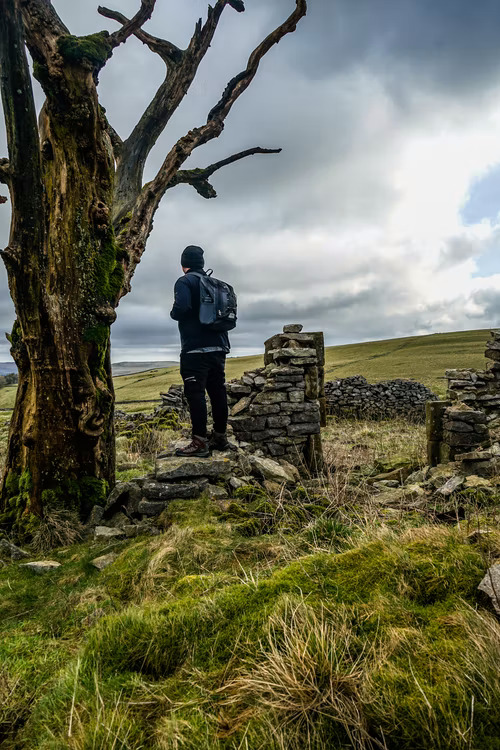person: (169, 246, 233, 452)
